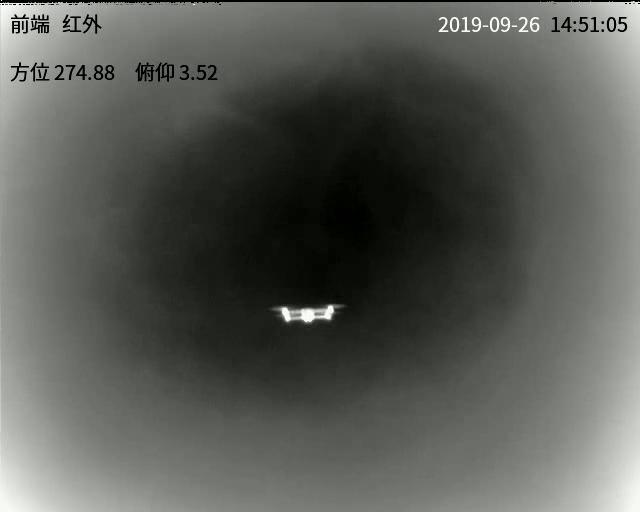DRONE: (273, 302, 338, 323)
